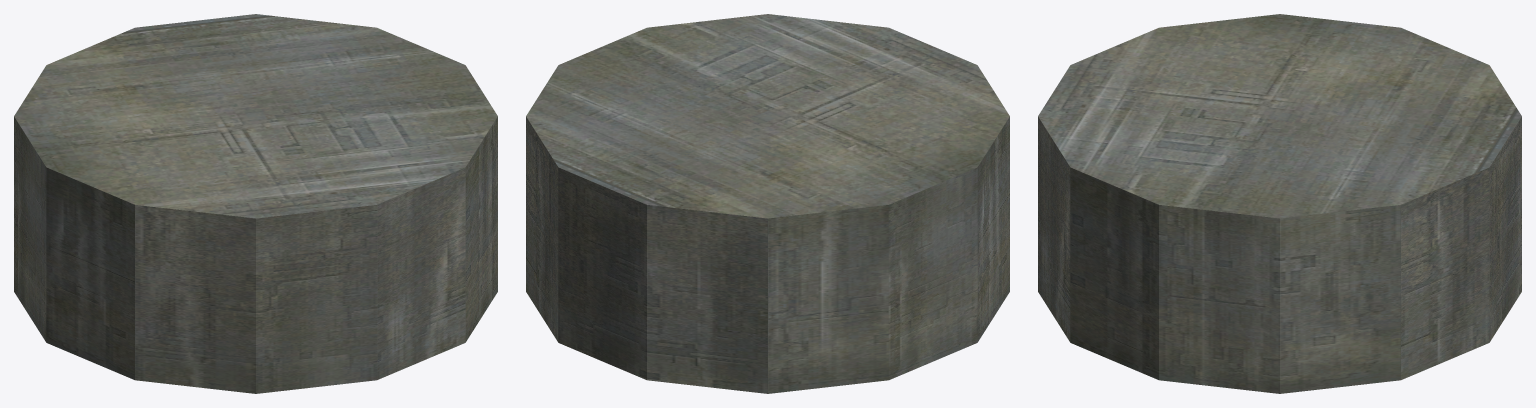
Rendered from Anchor.fbx.
3 views of the same model, side by side, from view 1: azimuth 30°, elevation 25°; view 2: azimuth 150°, elevation 25°; view 3: azimuth 270°, elevation 25° (orthographic).
Visible parts, largest first — view 1: Anchor; view 2: Anchor; view 3: Anchor.
Part boxes in pixels (x1=…): Anchor: x1=14, y1=14, x2=497, y2=393; Anchor: x1=526, y1=14, x2=1009, y2=393; Anchor: x1=1038, y1=14, x2=1521, y2=393.
Size of the model in its own units: 500 by 200 by 500.
